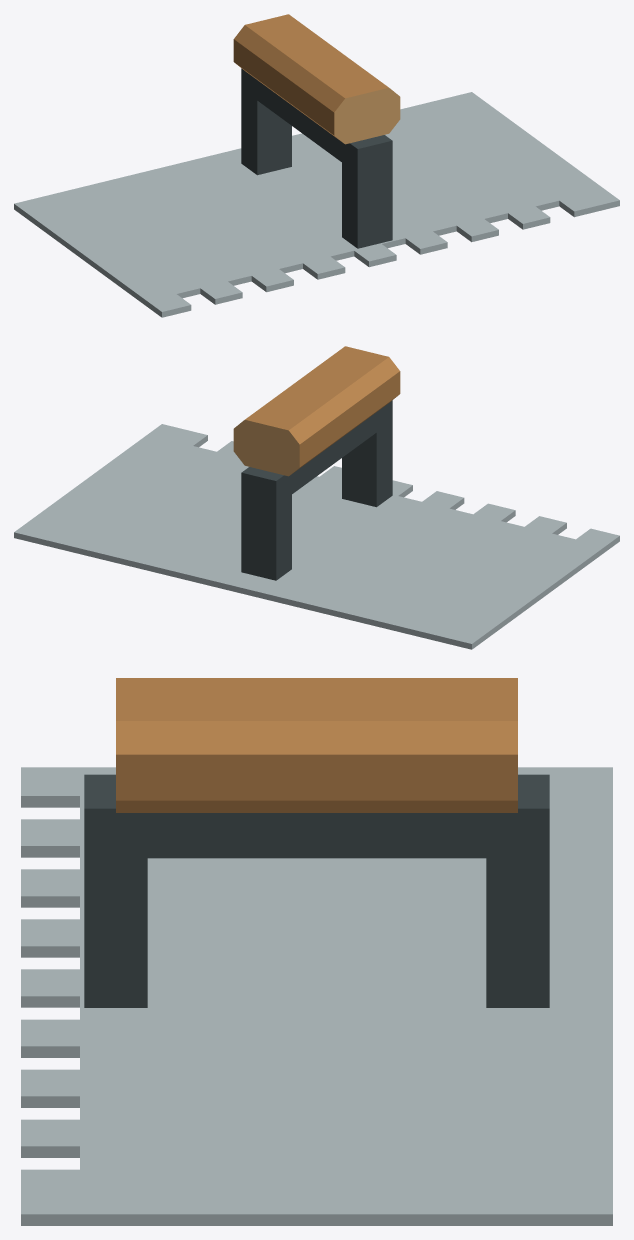
3 renders of one model, top to bottom at view 1: azimuth 30°, elevation 25°; view 2: azimuth 150°, elevation 25°; view 3: azimuth 270°, elevation 25°, orthographic. The views are drawn at different scales.
Visible parts, largest first — view 1: ContinuousEightNotchBlade, ChamferedWoodGrip, ContinuousOpenHandleBridge; view 2: ContinuousEightNotchBlade, ChamferedWoodGrip, ContinuousOpenHandleBridge; view 3: ContinuousEightNotchBlade, ChamferedWoodGrip, ContinuousOpenHandleBridge.
Part boxes in pixels (x1,y1,x2,y2): ContinuousEightNotchBlade: (14, 92, 619, 317); ChamferedWoodGrip: (233, 14, 400, 144); ContinuousOpenHandleBridge: (241, 68, 392, 248); ContinuousEightNotchBlade: (14, 424, 619, 649); ChamferedWoodGrip: (233, 346, 400, 476); ContinuousOpenHandleBridge: (241, 400, 392, 580); ContinuousEightNotchBlade: (21, 767, 612, 1225); ChamferedWoodGrip: (116, 678, 517, 812); ContinuousOpenHandleBridge: (84, 774, 549, 1007).
Size of the model in its own units: 0.5 by 0.158 by 0.28.
